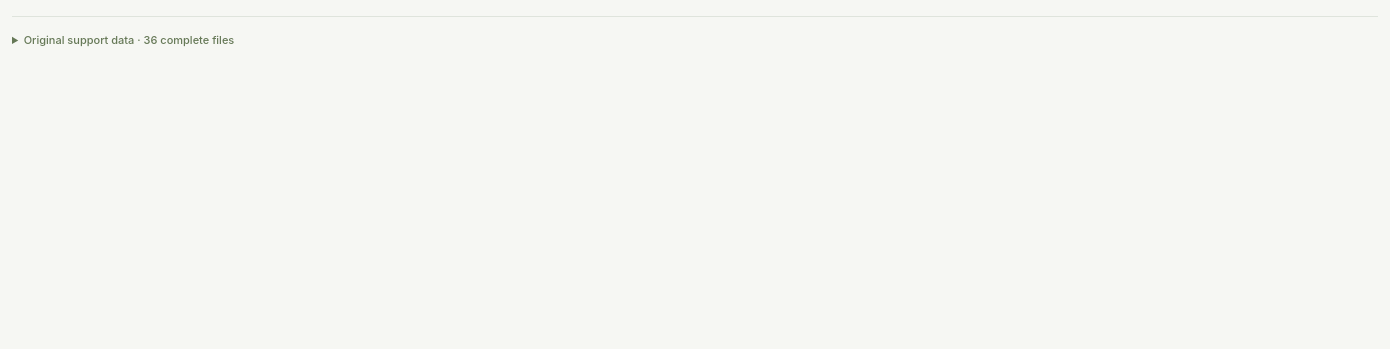
lets a user inspect an original pool and bind it to a supported field
Later steps or results of the test are not shown.
Click the heading "Original support data · 36 complete files": (129, 40) [24, 33, 234, 47]
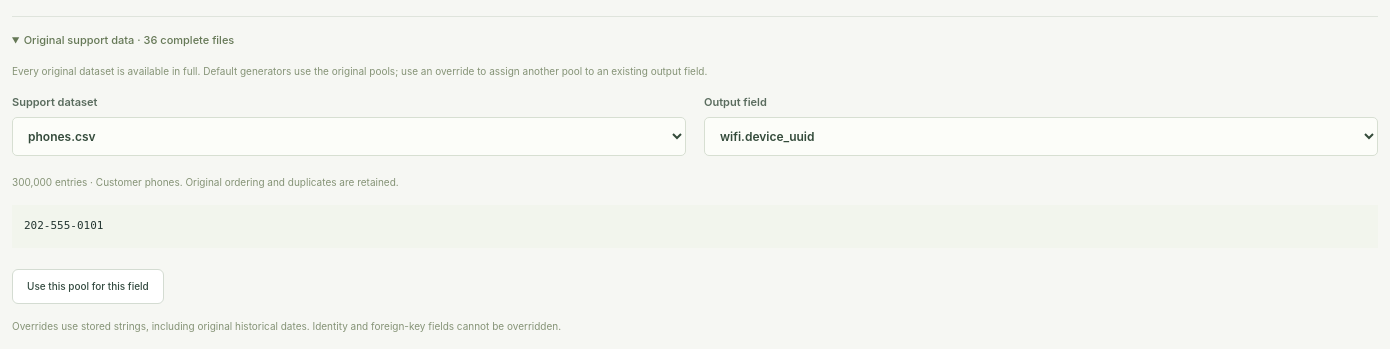
Now the text "202-555-0101" is shown, box [12, 205, 1378, 248]
